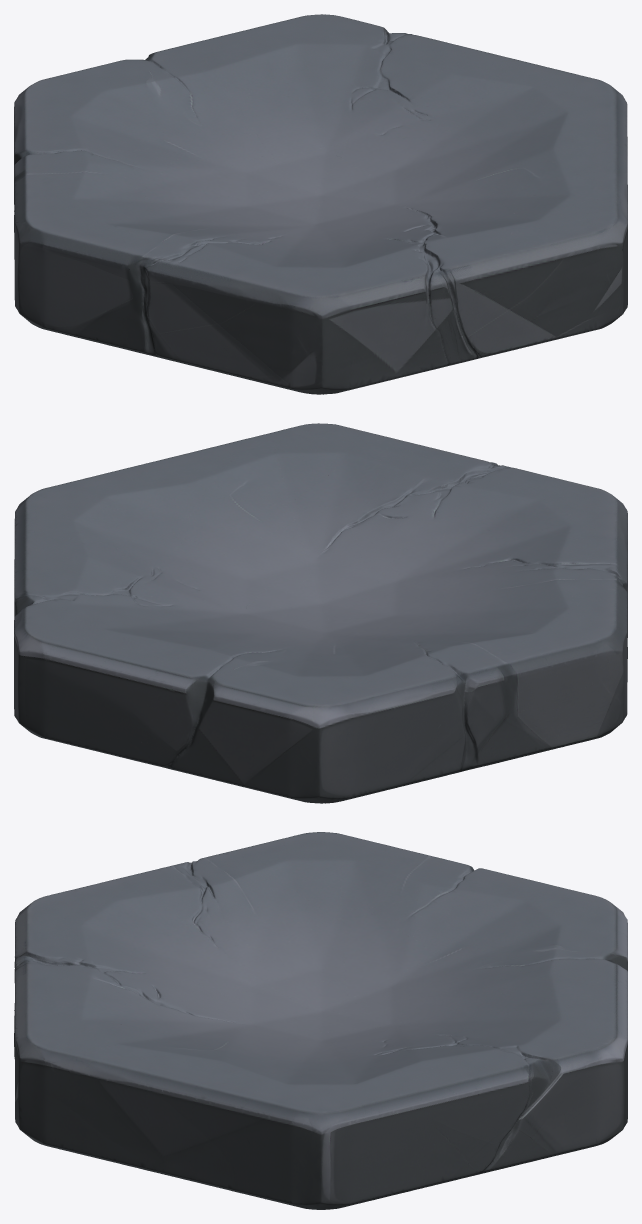
The model's file is Meshy_AI_rock__0321160153_texture.glb.
3 views of the same model, one above another, from view 1: azimuth 30°, elevation 25°; view 2: azimuth 150°, elevation 25°; view 3: azimuth 270°, elevation 25° (orthographic).
Bounding box in the file's own units: 1.9 × 0.2925 × 1.67.
1 material, 1 textured.
